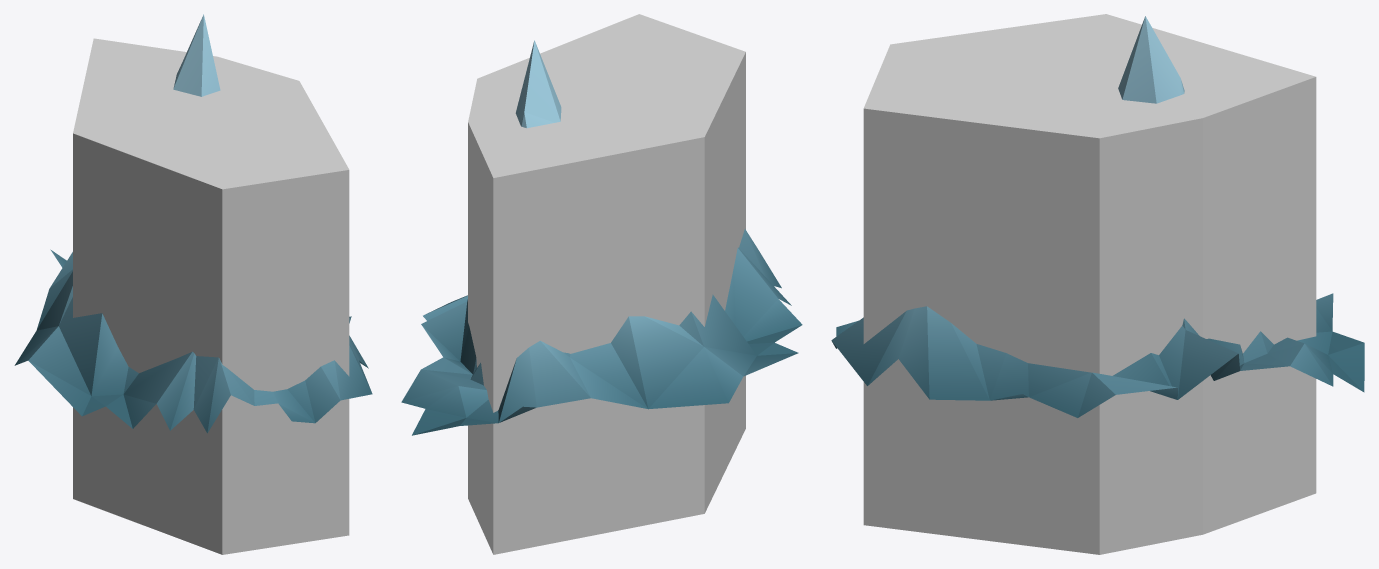
File: island_small_ice_Collection_6.fbx
3 views of the same model, side by side, from view 1: azimuth 30°, elevation 25°; view 2: azimuth 150°, elevation 25°; view 3: azimuth 270°, elevation 25° (orthographic). The views are drawn at different scales.
Parts seen in each view (by area): view 1: islandRock_6_col, islandRock_6; view 2: islandRock_6_col, islandRock_6; view 3: islandRock_6_col, islandRock_6.
Part boxes in pixels (x1,y1,x2,y2): islandRock_6_col: (73,38,349,554); islandRock_6: (14,14,372,433); islandRock_6_col: (468,14,745,554); islandRock_6: (401,40,802,435); islandRock_6_col: (863,14,1316,554); islandRock_6: (831,16,1364,417).
Bounding box in the file's own units: 2020 × 2970 × 2888.
